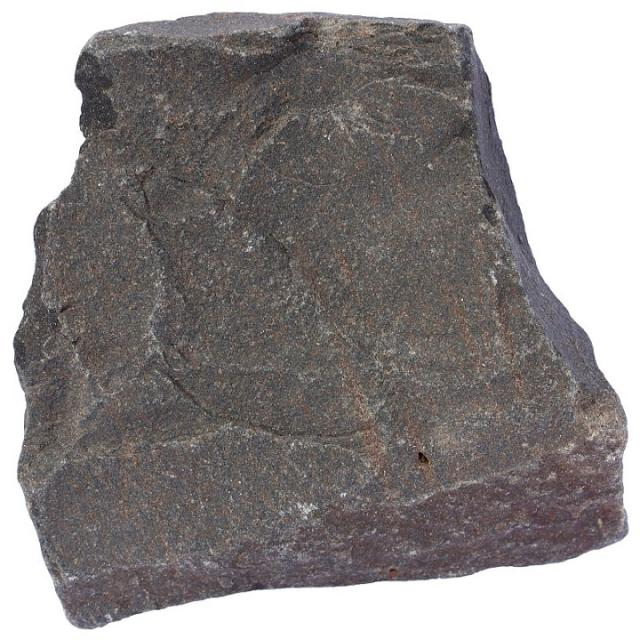Igneous: (9, 1, 625, 631)
